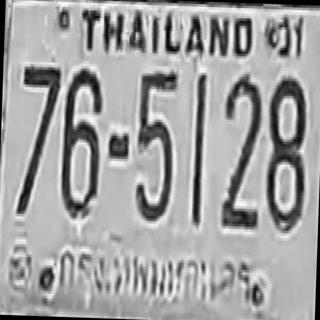N01: (189, 74, 206, 224)
N02: (219, 73, 262, 227)
N05: (134, 69, 177, 220)
N06: (59, 65, 102, 219)
N07: (17, 63, 60, 216)
N08: (264, 75, 308, 231)
P04: (53, 233, 256, 306)
